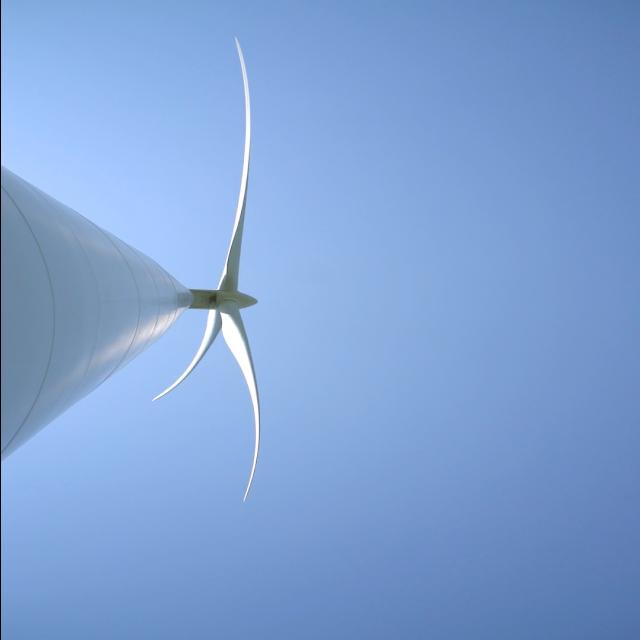blade 1: (149, 323, 211, 408)
blade 2: (216, 13, 276, 285)
blade 3: (218, 334, 280, 602)
